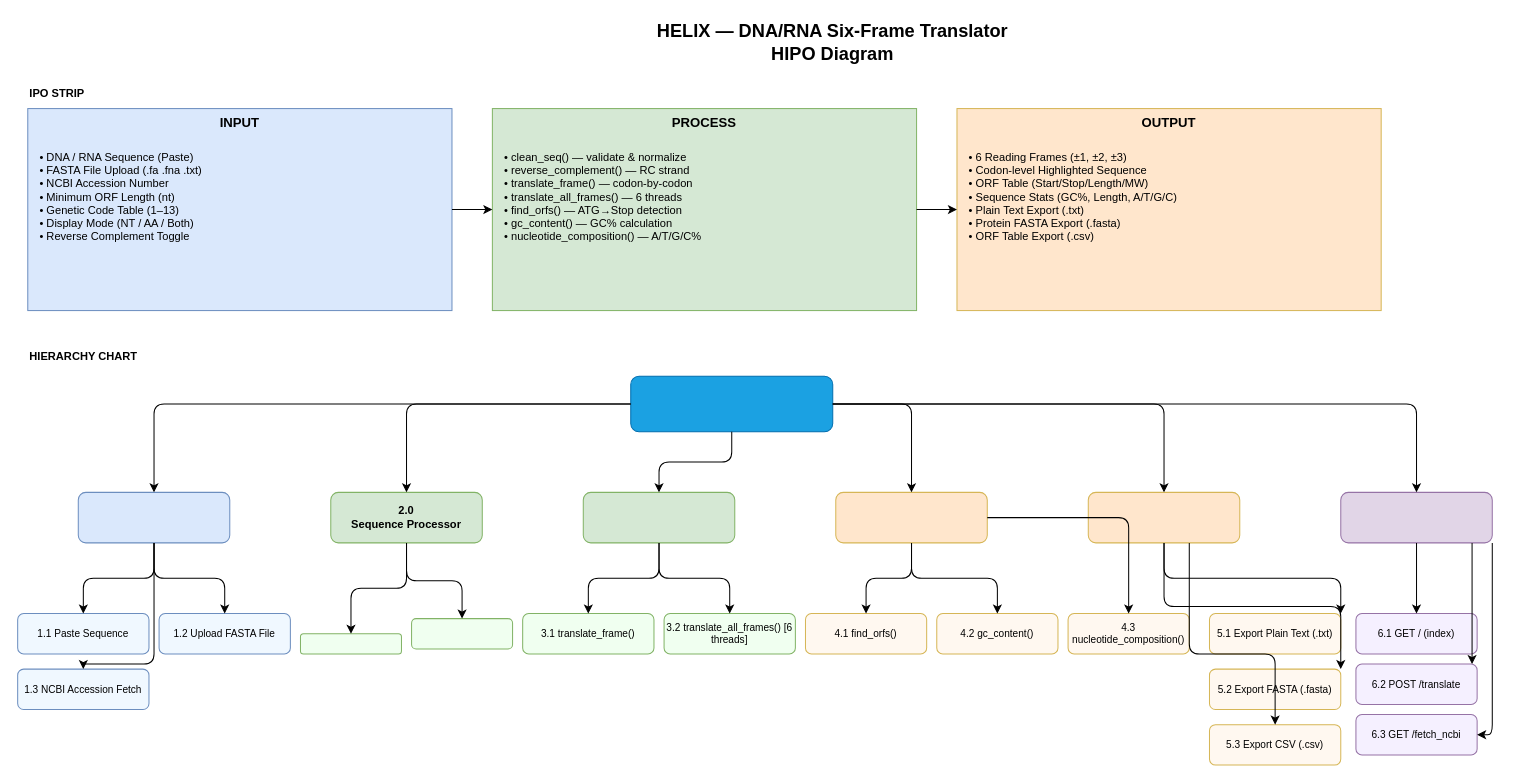
Image size: 1518x783. Some labels were removed from this diagram. The shapes that lost their labels are listed below. From the top down, each one's centre as x and y in pixels, then its label:
At (x=731, y=403): "HELIX System".
At (x=153, y=517): "1.0 Input Handler".
At (x=658, y=517): "3.0 Translation Engine".
At (x=911, y=517): "4.0 ORF & Analytics".
At (x=1163, y=517): "5.0 Output & Export".
At (x=1416, y=517): "6.0 Flask API / Routes".
At (x=350, y=643): "2.1 clean_seq()".
At (x=462, y=633): "2.2 reverse_complement()".
